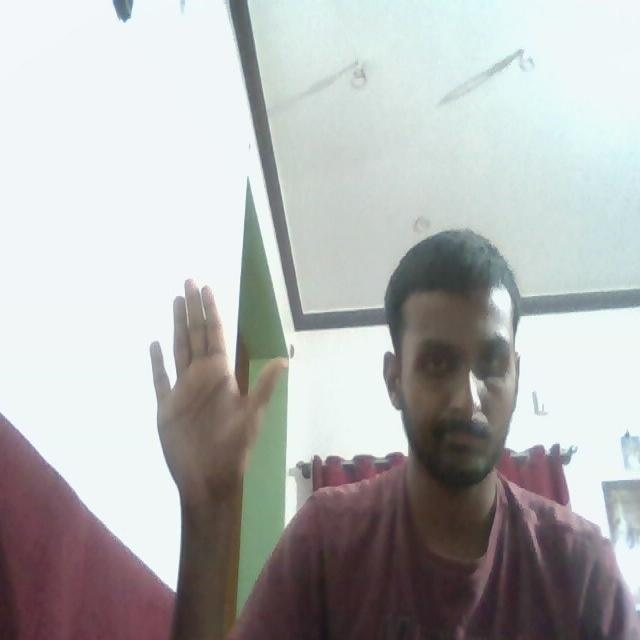hello-yes-no-iloveyou-please: (140, 263, 291, 495)
